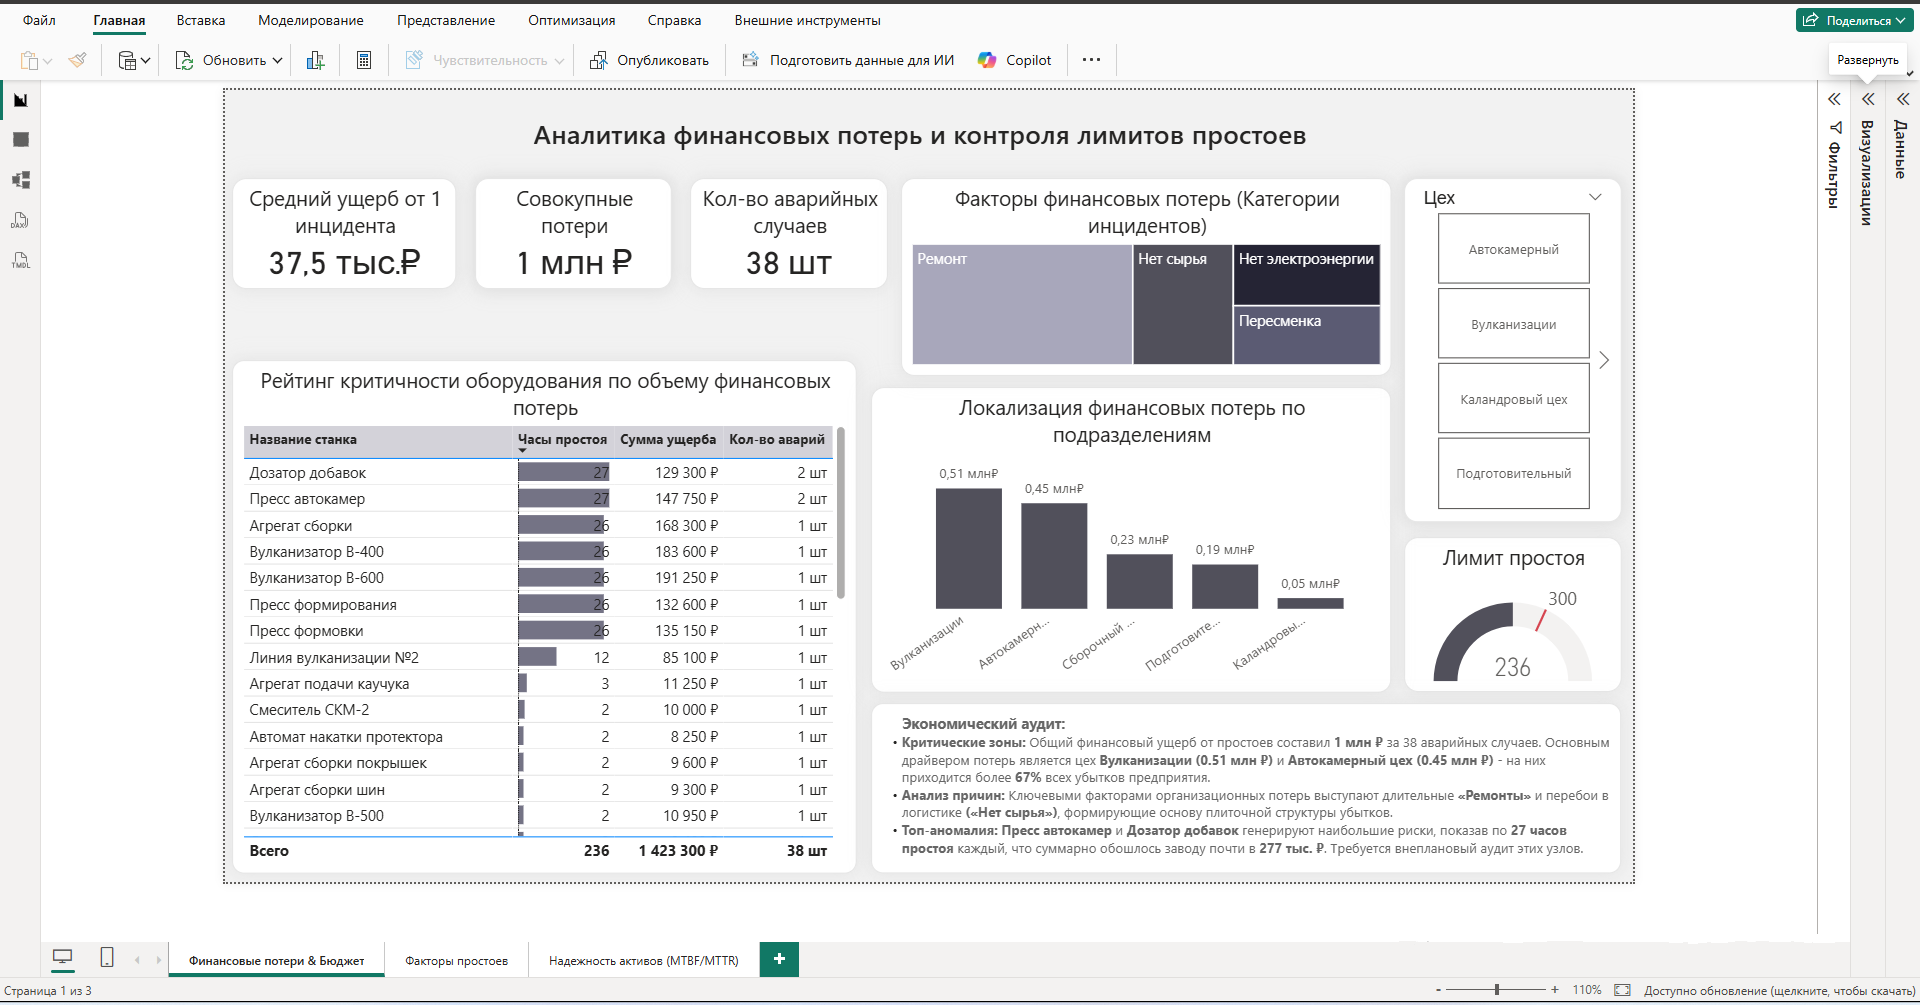

What the dashboard file says about the page in this screenshot:
{"tool":"powerbi","page":{"name":"Финансовые потери & Бюджет","canvas":[1280,720],"ordinal":0},"visuals":[{"type":"textbox","box":[275.8,17.9,767.5,50.1],"z":0},{"type":"card","title":"Совокупные потери","fields":{"Values":["_Меры.Общая_стоимость_потерь"]},"box":[227.5,79.7,179.1,101.2],"z":1000},{"type":"card","title":"Средний ущерб от 1 инцидента","fields":{"Values":["_Меры.Средняя_стоимость_случая"]},"box":[6.3,79.7,204.2,101.2],"z":2000},{"type":"card","title":"Кол-во аварийных случаев","fields":{"Values":["_Меры.Количество_поломок"]},"box":[422.7,79.7,180,101.2],"z":3000},{"type":"gauge","title":"Лимит простоя","fields":{"Y":["_Меры.Общие_часы_простоя"],"TargetValue":["_Меры.Лимит_простоя"]},"box":[1071.9,406.6,197.9,141.5],"z":4000},{"type":"tableEx","title":"Рейтинг критичности оборудования по объему финансовых потерь","fields":{"Values":["Справочник_оборудования.Название_Станка","_Меры.Общие_часы_простоя","_Меры.Общая_стоимость_потерь","_Меры.Количество_поломок"]},"box":[6.3,245.4,567.8,466.6],"z":5000},{"type":"clusteredColumnChart","title":"Локализация финансовых потерь по подразделениям","fields":{"Category":["Таблица_простои.Цех"],"Y":["_Меры.Общая_стоимость_потерь"]},"box":[587.5,270.4,472.8,277.6],"z":6000},{"type":"treemap","title":" Факторы финансовых потерь (Категории инцидентов)","fields":{"Group":["Таблица_простои.Причина_Простоя"],"Values":["_Меры.Общая_стоимость_потерь"]},"box":[614.3,79.7,446,180],"z":7000},{"type":"slicer","fields":{"Values":["Справочник_цехов.Цех"]},"box":[1071.9,79.7,197.9,312.5],"z":8000},{"type":"textbox","box":[587.5,557,682.4,154.9],"z":9000}]}

Visuals, with their boxes on the page's 1280x720 design canvas (x1, y1, x2, y2). These are canvas units, not pixel positions in the 1920x1005 screenshot, which may show the page scaled, cropped or inside an application window:
textbox: {"x1": 276, "y1": 18, "x2": 1043, "y2": 68}
"Совокупные потери" card: {"x1": 228, "y1": 80, "x2": 407, "y2": 181}
"Средний ущерб от 1 инцидента" card: {"x1": 6, "y1": 80, "x2": 210, "y2": 181}
"Кол-во аварийных случаев" card: {"x1": 423, "y1": 80, "x2": 603, "y2": 181}
"Лимит простоя" gauge: {"x1": 1072, "y1": 407, "x2": 1270, "y2": 548}
"Рейтинг критичности оборудования по объему финансовых потерь" tableEx: {"x1": 6, "y1": 245, "x2": 574, "y2": 712}
"Локализация финансовых потерь по подразделениям" clusteredColumnChart: {"x1": 588, "y1": 270, "x2": 1060, "y2": 548}
" Факторы финансовых потерь (Категории инцидентов)" treemap: {"x1": 614, "y1": 80, "x2": 1060, "y2": 260}
slicer - Справочник_цехов.Цех: {"x1": 1072, "y1": 80, "x2": 1270, "y2": 392}
textbox: {"x1": 588, "y1": 557, "x2": 1270, "y2": 712}
